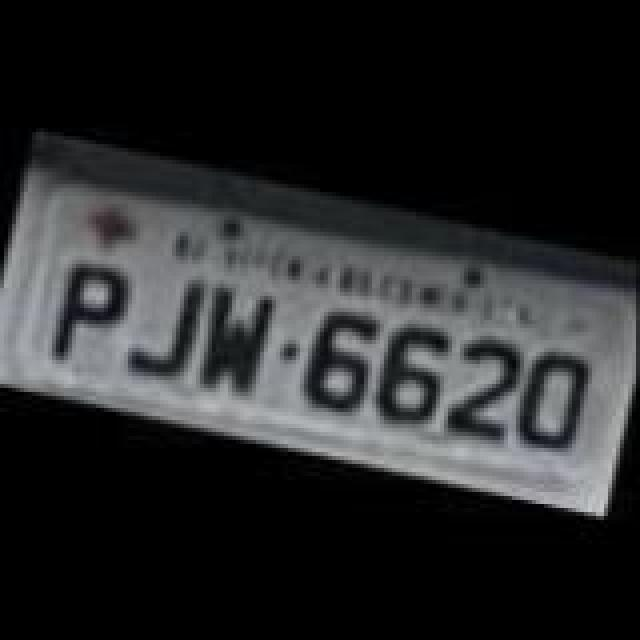2: (436, 328, 532, 448)
6: (298, 302, 386, 422), (370, 314, 458, 430)
J: (118, 266, 214, 386)
O: (510, 344, 594, 456)
P: (40, 256, 132, 376)
W: (188, 276, 280, 396)
